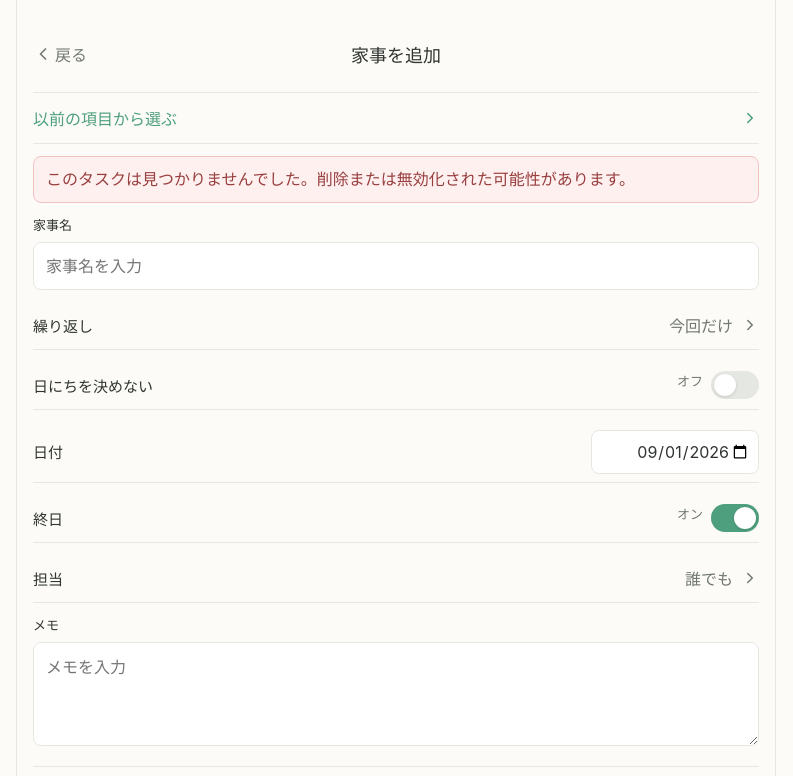
Test case: App task form payload › renders one canonical start date and only shows time when all-day is off
The image size is (793, 776).
Expected: the button with aria-label "繰り返し: 今回だけ" is shown, [33,302,759,350]
Expected: the date field with id "m2-task-start-date" holds "2026-09-01", [591,430,759,474]
Click the checkbox labelled "終日".
click(48, 519)  # box [33,495,759,543]
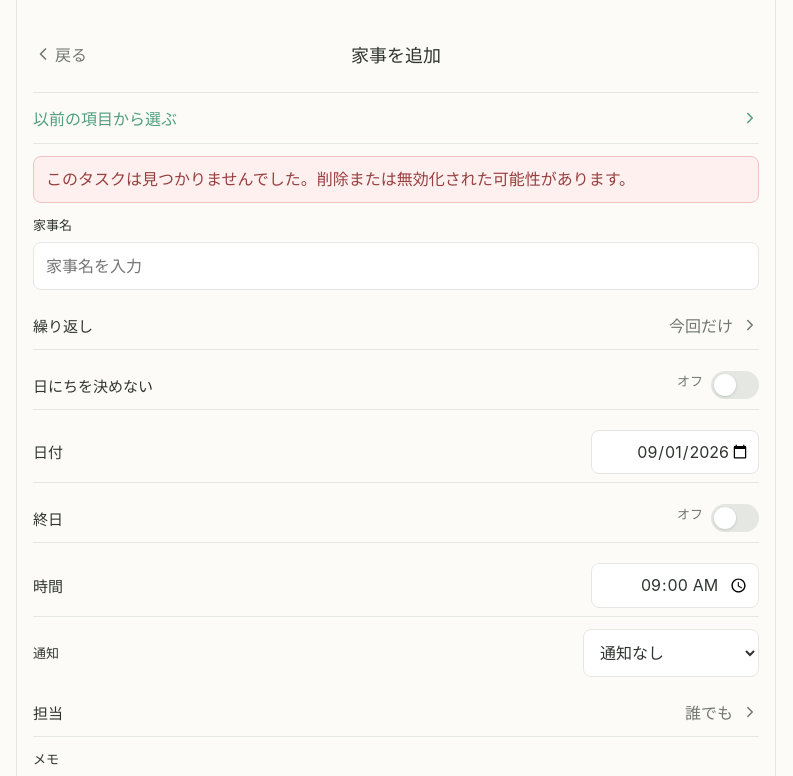
Expected: the number of date fields is 1, [591,430,759,474]
Expected: the time field with id "m2-task-time" is shown, [591,563,759,608]
